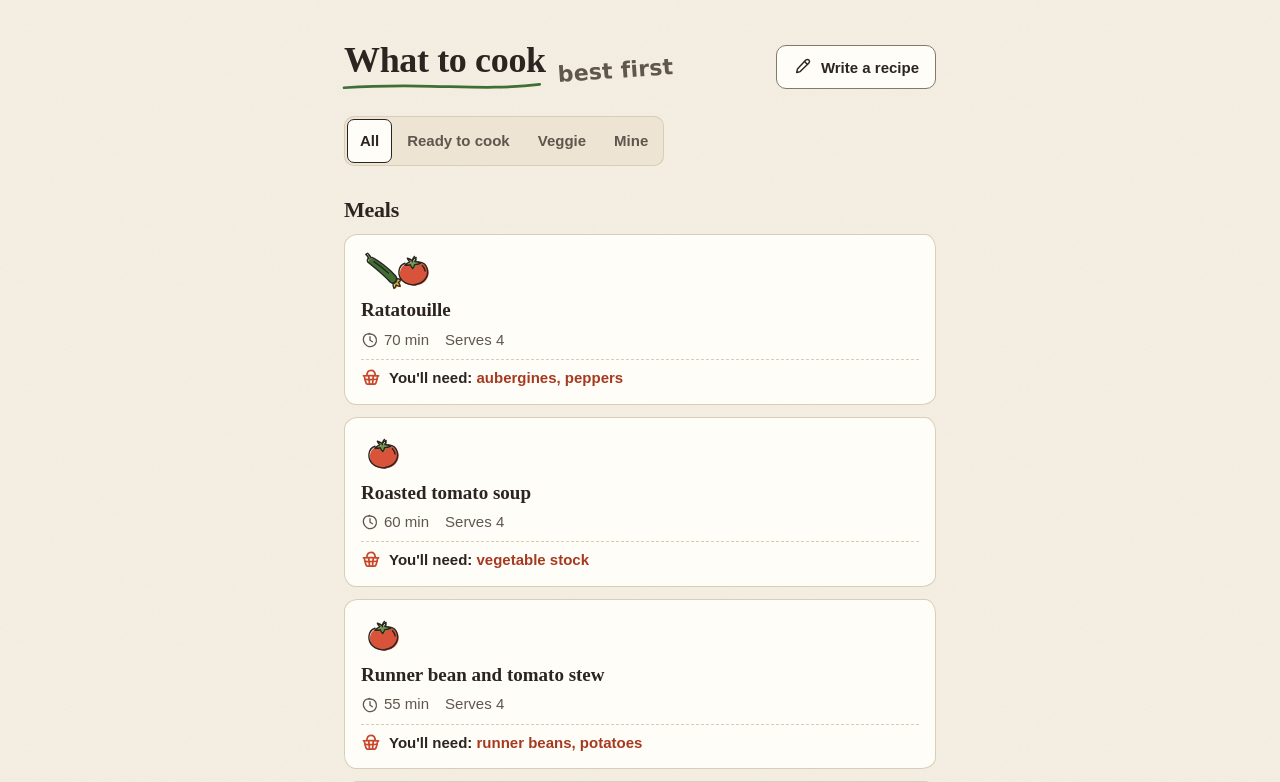
it: Recipe view › splits ingredients into from the patch, in the larder and to buy, then the method
Click the button "Ratatouille": (383,271) 344,234 -> 936,405
(page scrolled)
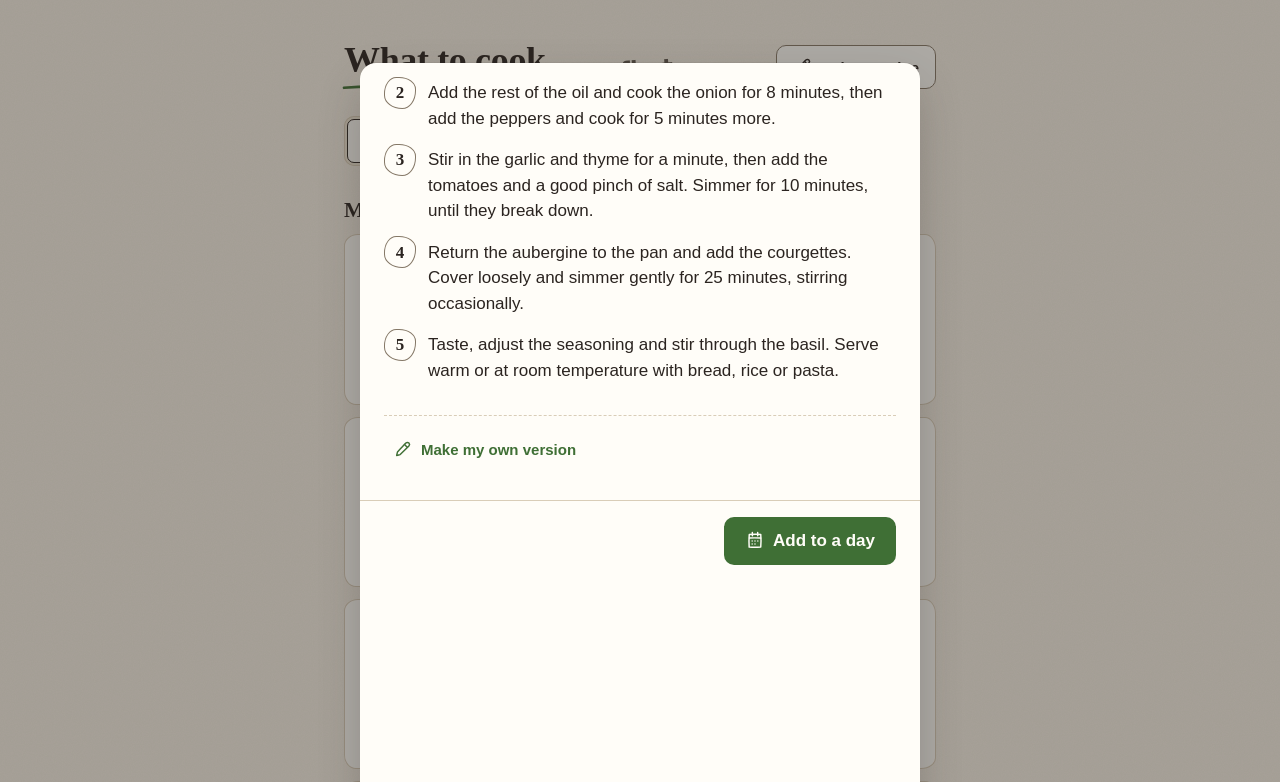
Check: the button "Make my own version" is shown, box 384,428 -> 585,472
